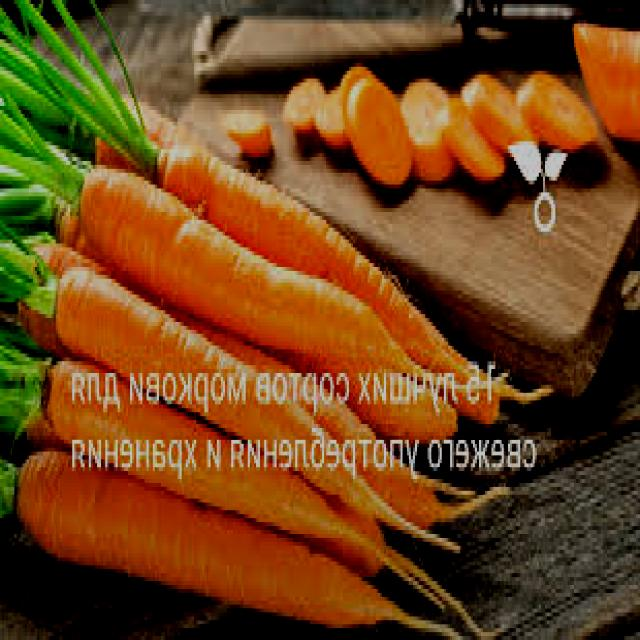garlic: (153, 141, 497, 420), (70, 158, 445, 386), (48, 264, 393, 509), (0, 455, 408, 640), (23, 343, 364, 560), (270, 66, 595, 170), (575, 11, 640, 158), (224, 80, 280, 166)
